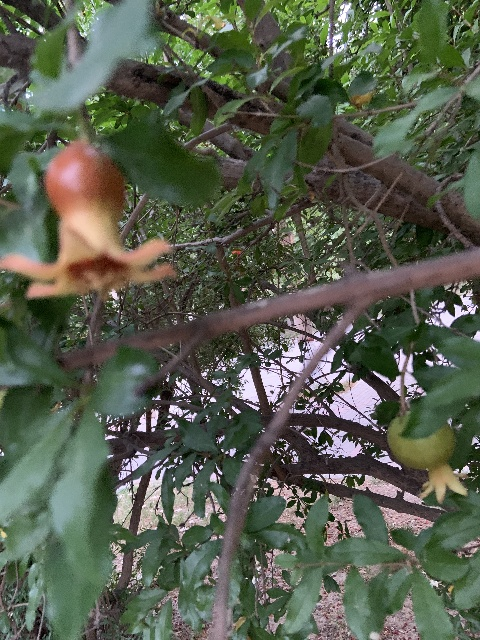early-fruit: (1, 140, 175, 300)
mid-growth: (387, 415, 470, 504)
